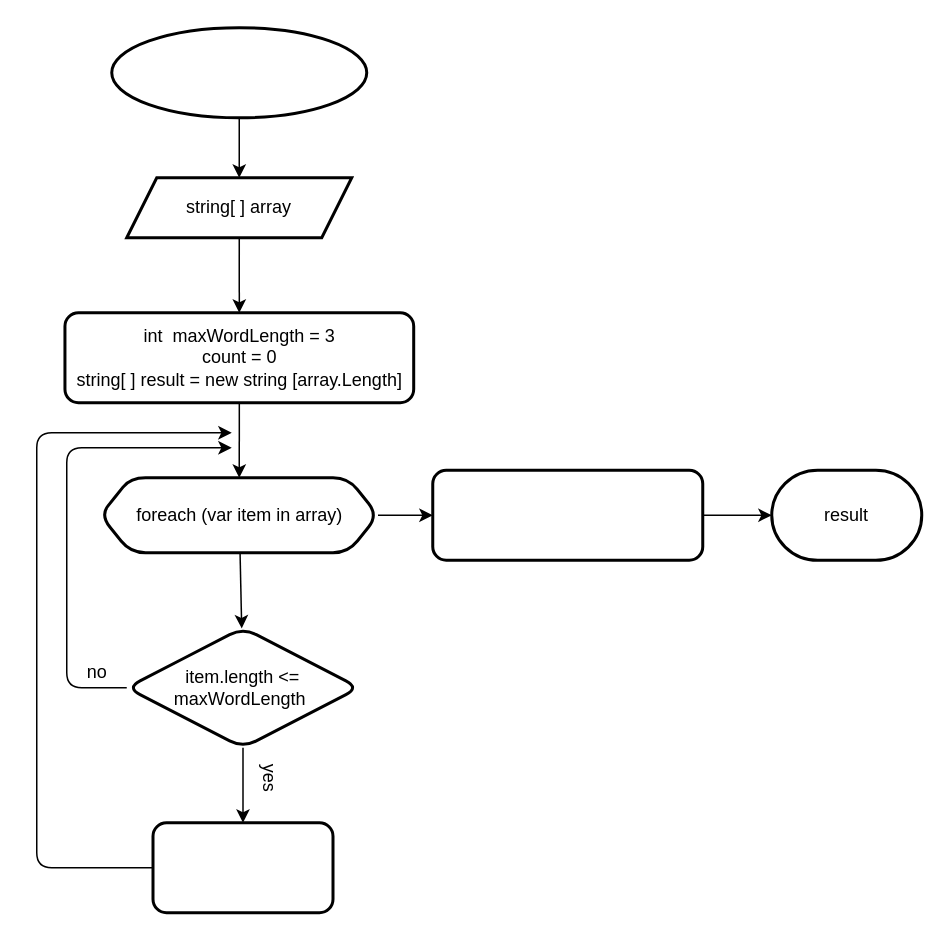
Some shapes in this 950 by 939 pixel diagram are drawn without their labels. The shapes that lost their labels are listed below. From the top down, each one's centre as x and y in pixels, then its label:
point (239, 72): GetResultStringArray
point (567, 514): Array.Resize (ref result, count)
point (242, 867): result [count] = item count ++
